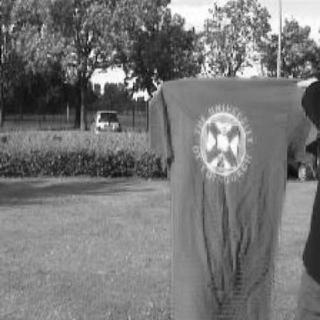other: (140, 73, 308, 314)
